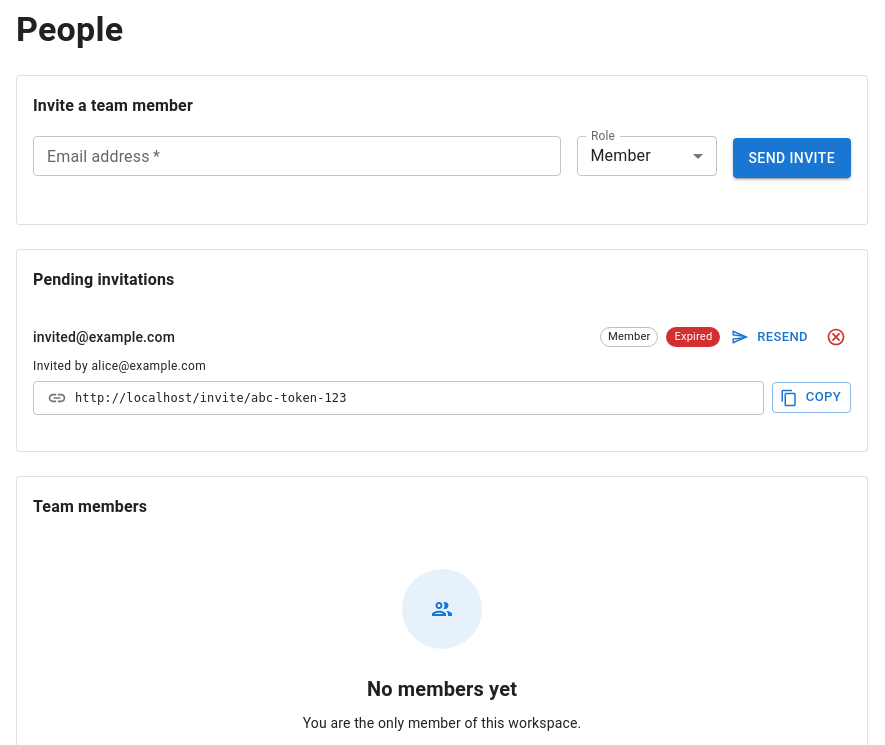
Scenario: PeoplePage — resend invitation › shows a success alert after a successful resend
The image size is (885, 745).
What coordinates should you click on to do the following:
click the button with aria-label "resend invitation to invited@example.com"
I would click on:
 (771, 337)
Its box is [728, 322, 813, 353].
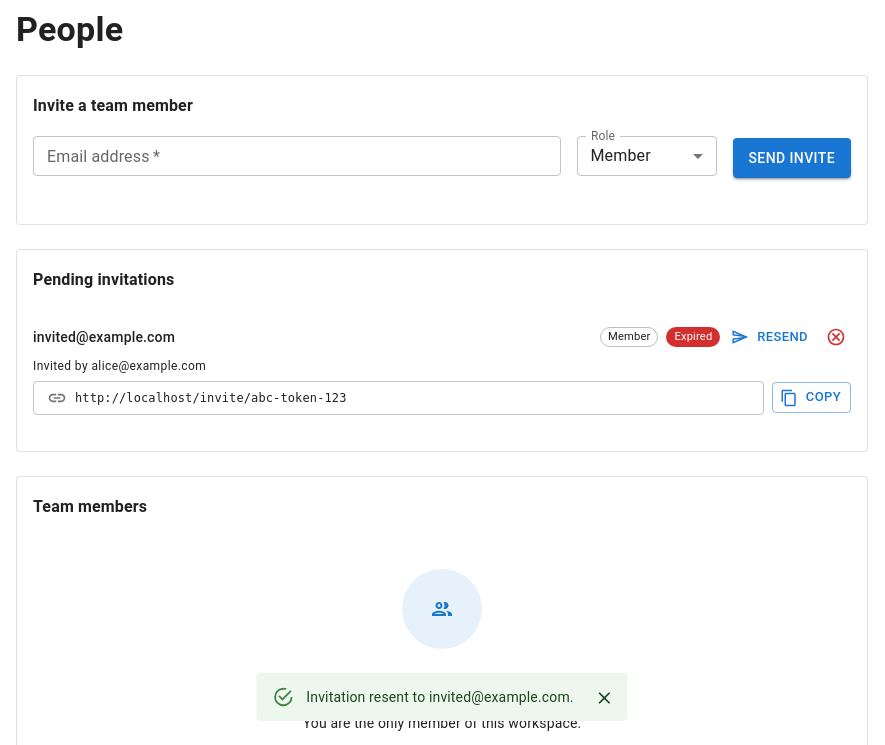
Result: the text "Invitation resent to invited@example.com." is shown at [306, 689, 574, 705]
